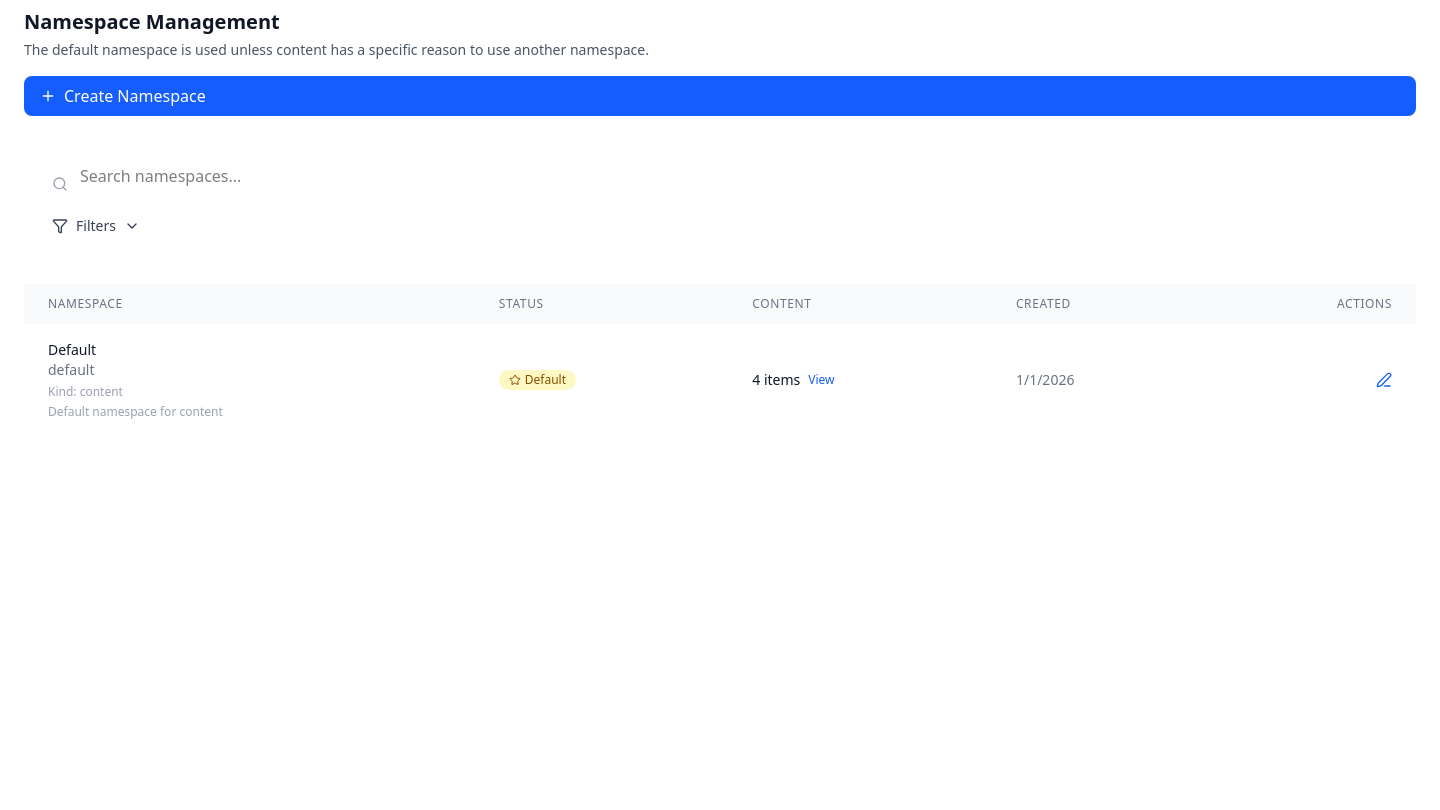
Test case: NamespaceManager › sets namespace kind and makes theme media hidden
This screenshot has width=1440, height=810.
Expected: the text "Default namespace for content" is shown, [48,403,223,420]
Click the button "Create Namespace" at [135, 96], box [24,76,1416,116]
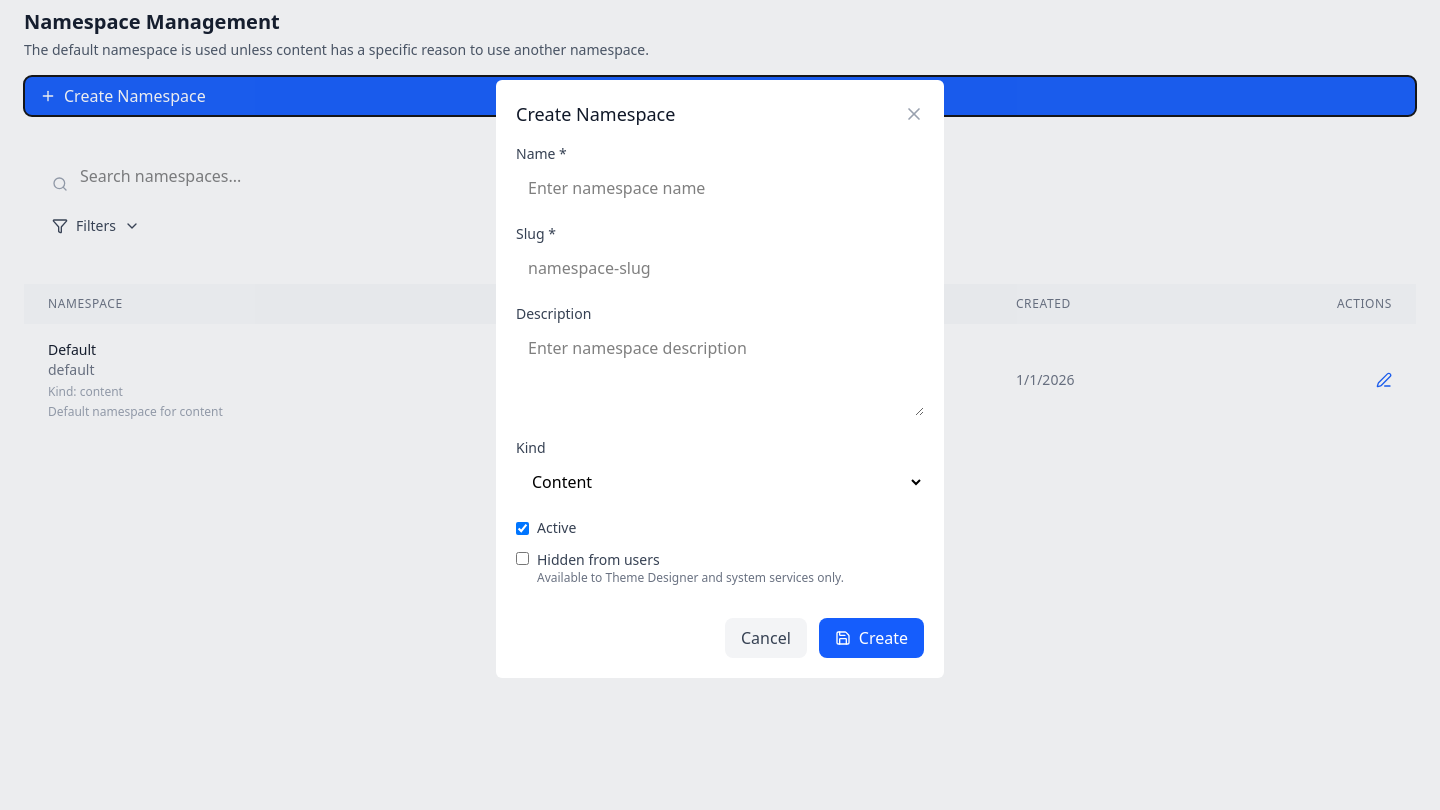
Type "Theme media" into the field labelled "Name *" at [720, 188], box [516,168,924,208]
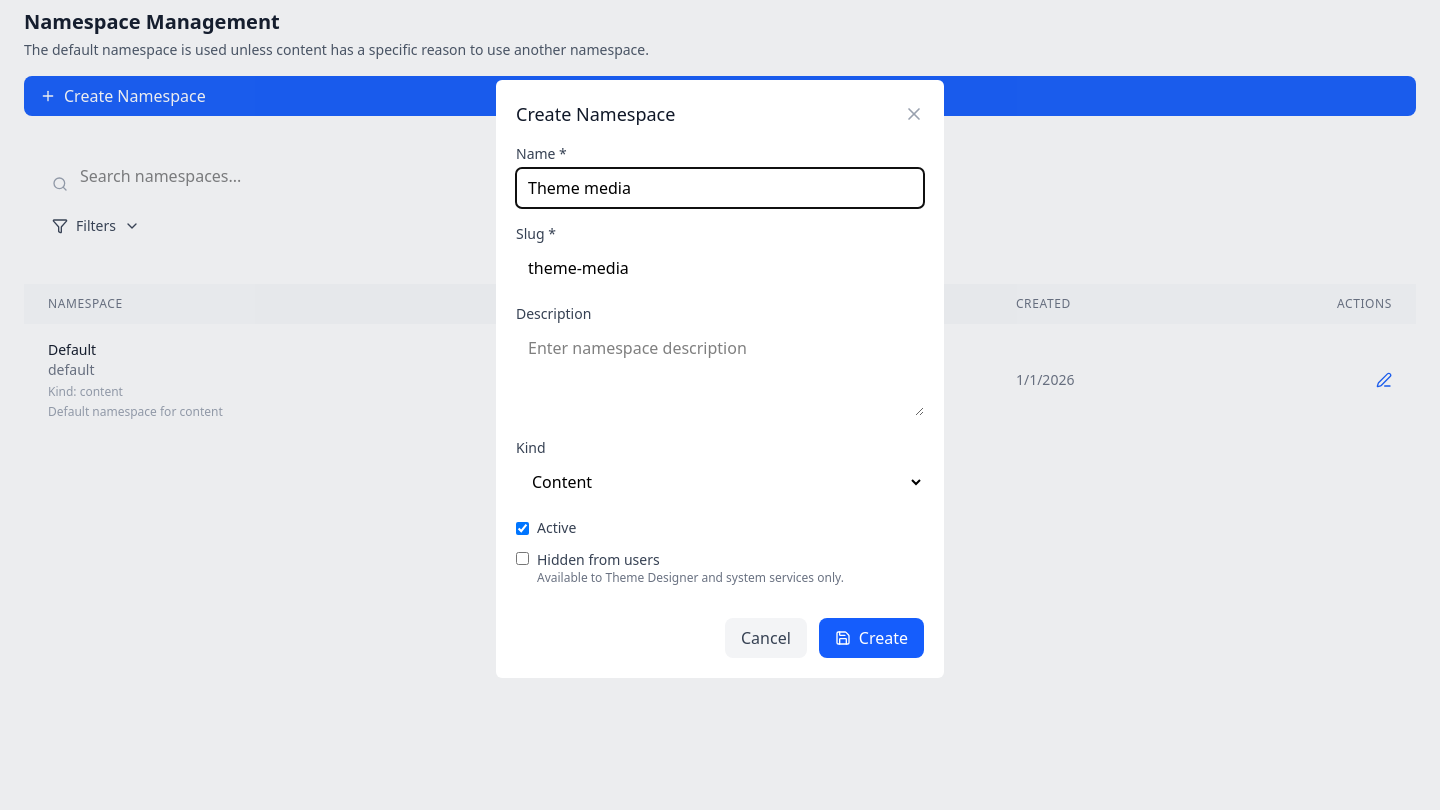
Select "Theme media" in the dropdown labelled "Kind" at [720, 482], box [516,462,924,502]
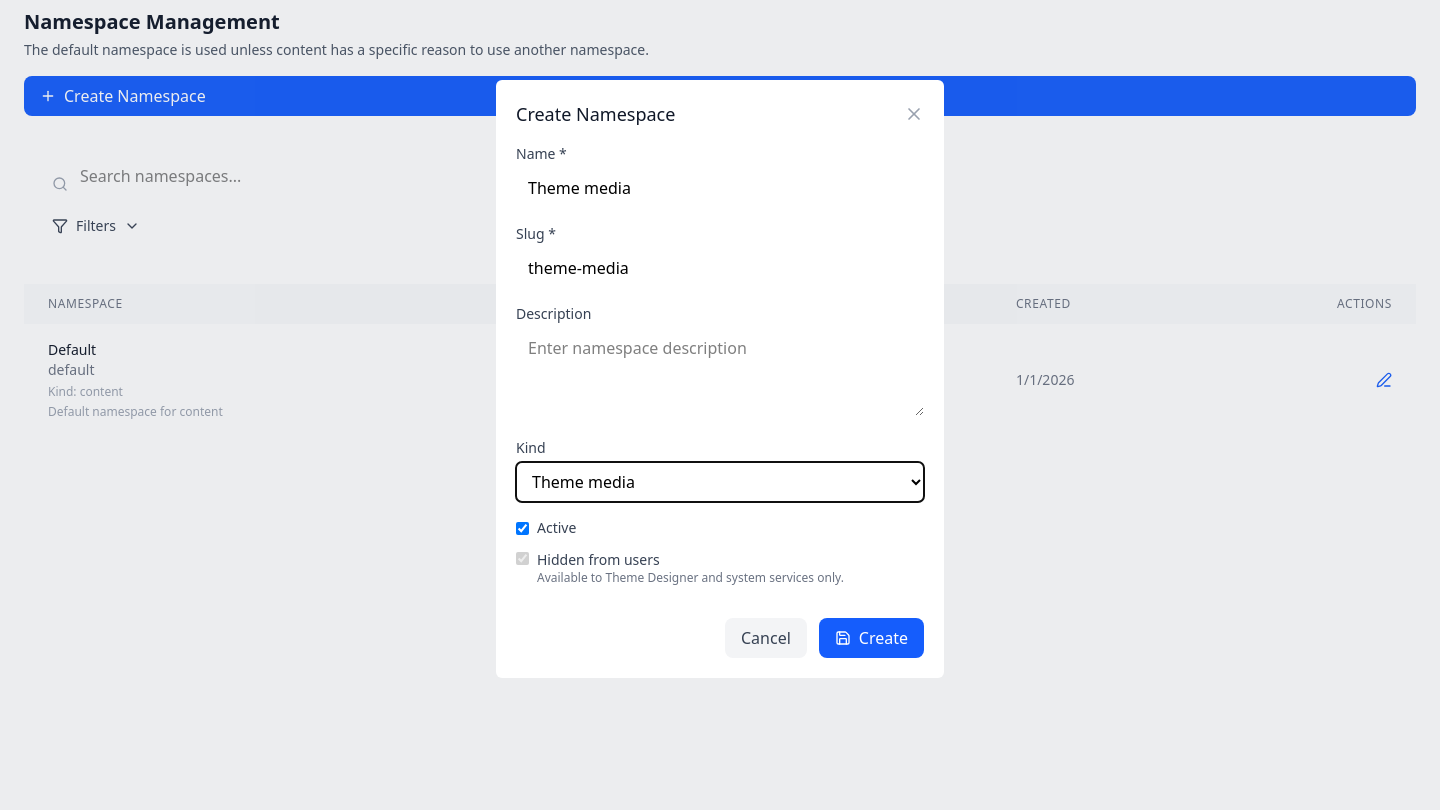
Now the checkbox labelled "Hidden from users" is checked, box [516,552,529,565]
Now the checkbox labelled "Hidden from users" is disabled, box [516,552,529,565]
